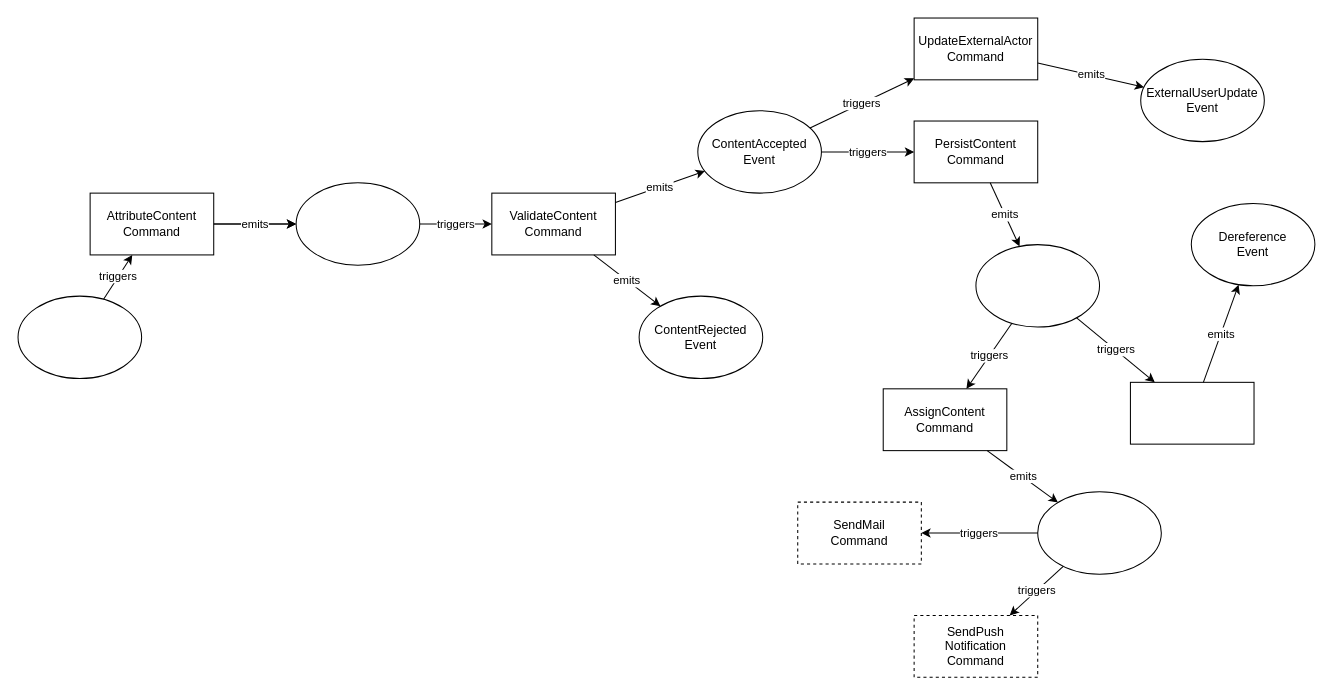
Image size: 1334x695. Some labels were removed from this diagram. Here are the shapes that lost their labels. From the top down, the centre of each, then its label:
point 357,223: ContentAttributed Event
point 1037,285: ContentPersisted Event
point 79,337: ASContent ReceivedEvent
point 1191,412: Dereference Command
point 1099,532: ContentAssigned Event
